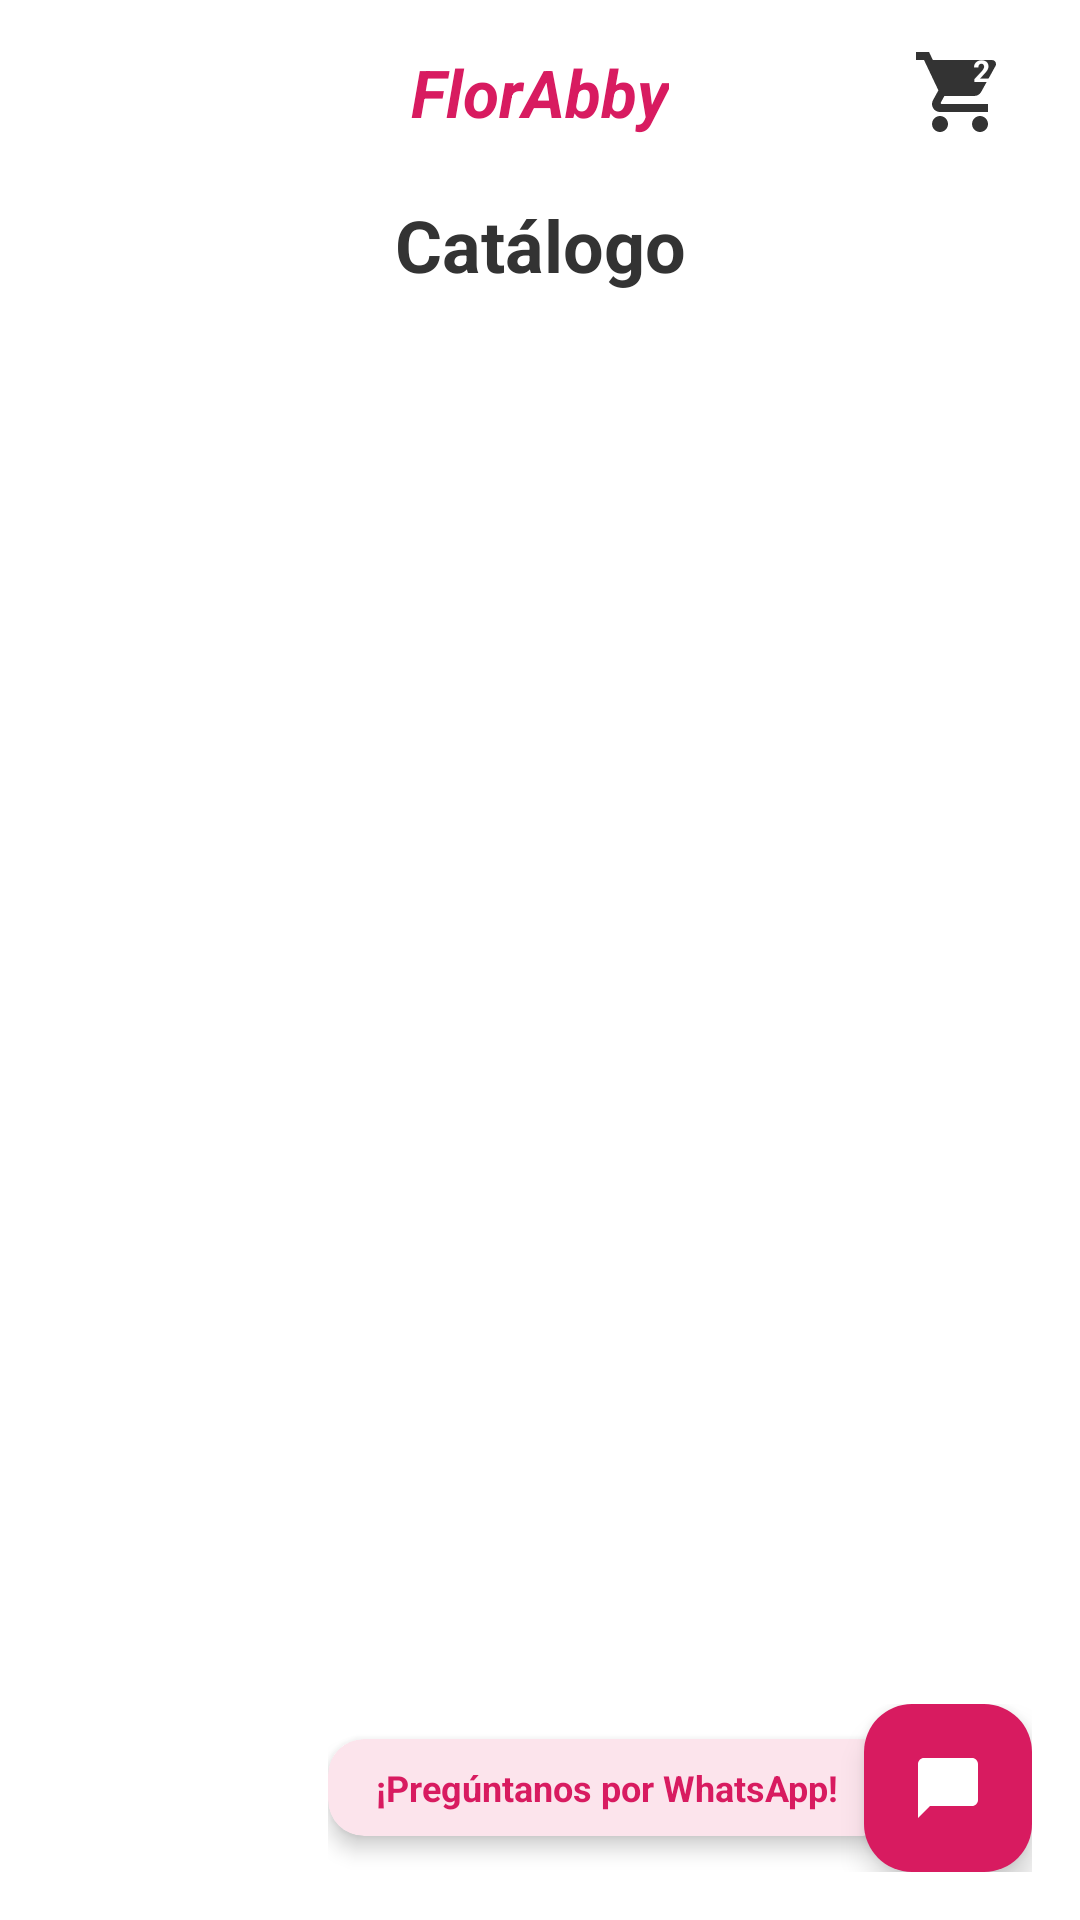

Where icons sit on this 1080×1920 app screen, as [x1, y1, x2, y2]:
cart: [916, 52, 996, 132]
